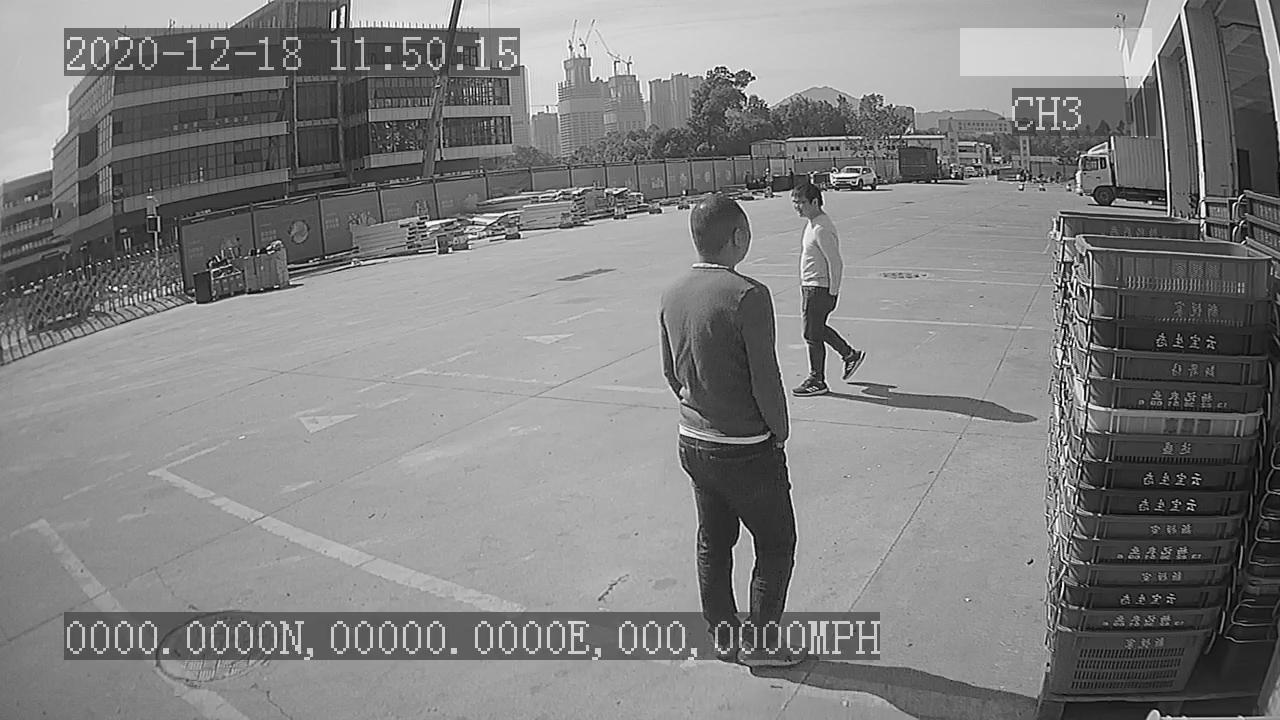person: (786, 179, 872, 401)
